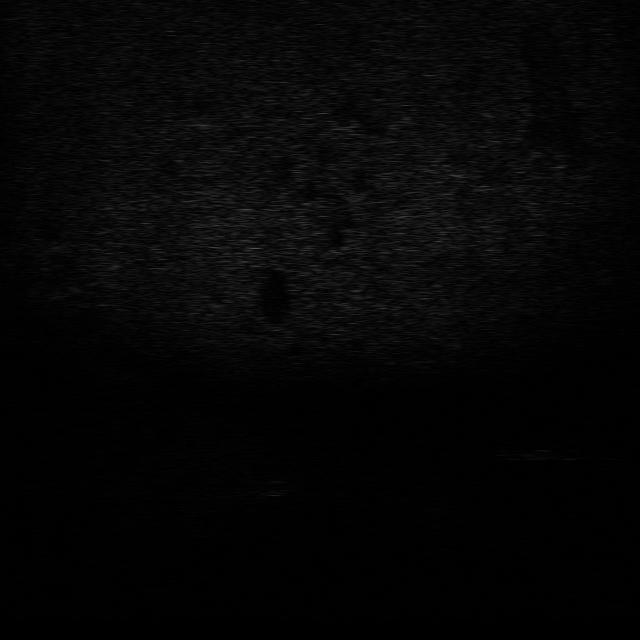ball: (253, 478, 295, 499)
human body: (492, 436, 588, 462)
